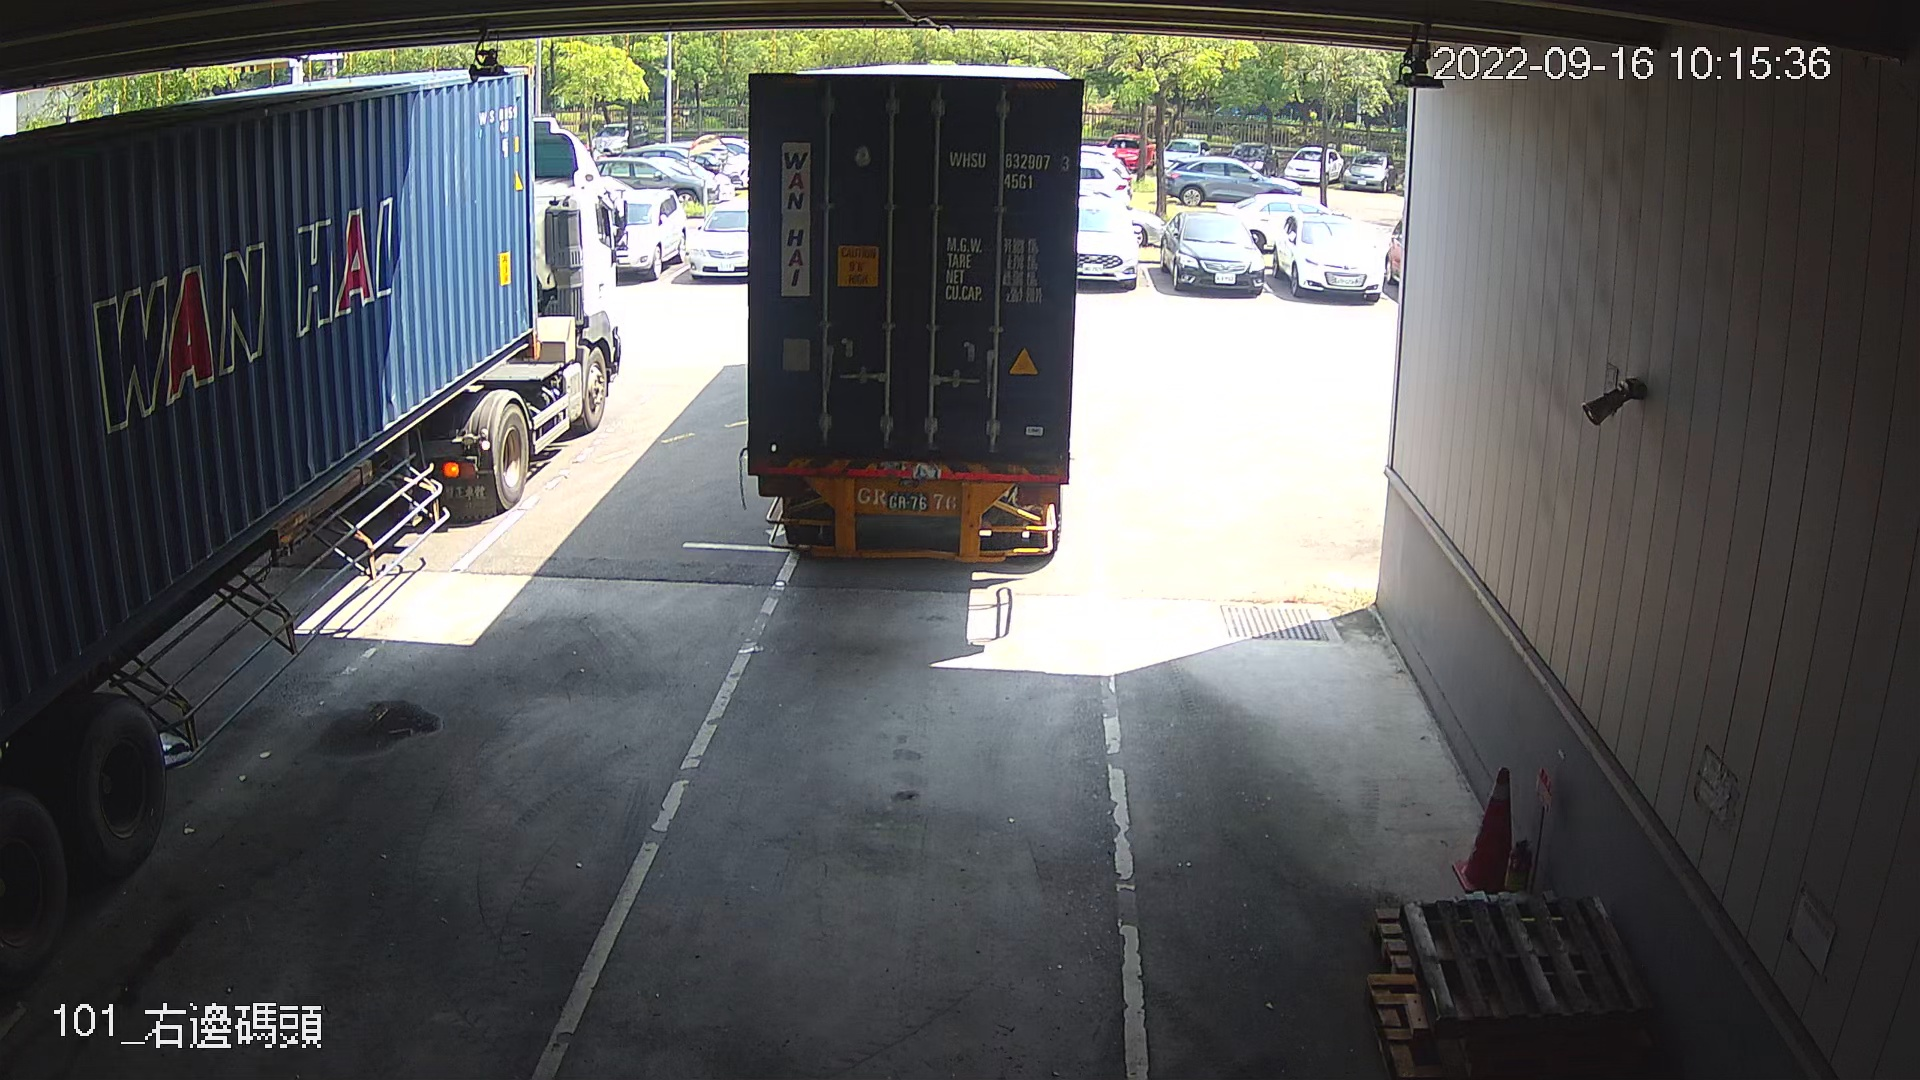container: (942, 144, 1073, 195)
